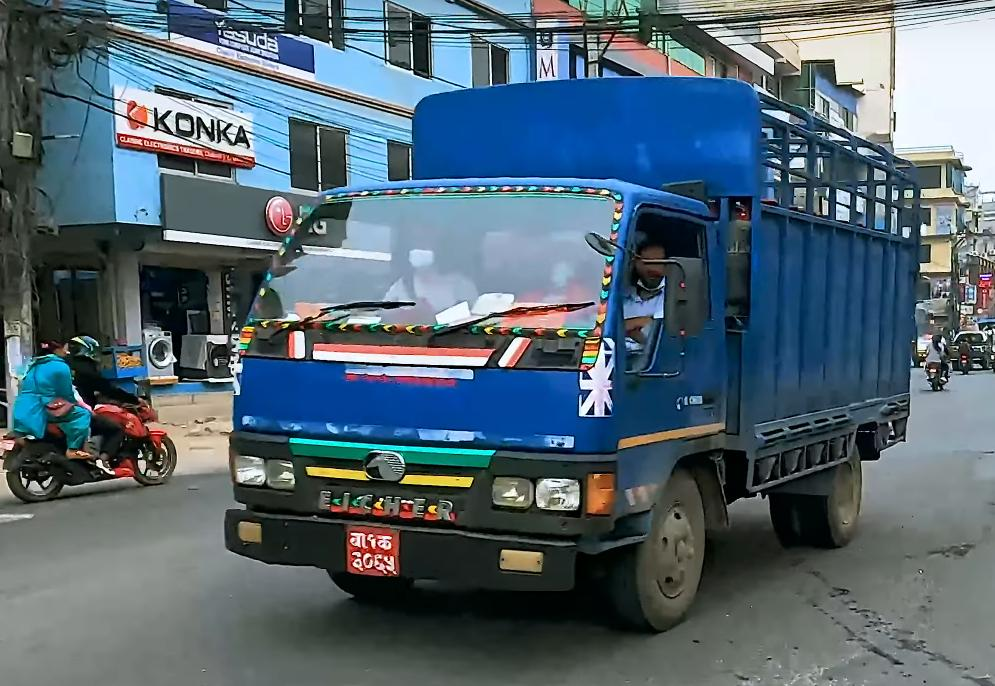bike: (0, 312, 185, 509), (919, 342, 959, 403)
mini_truck: (220, 63, 920, 636)
